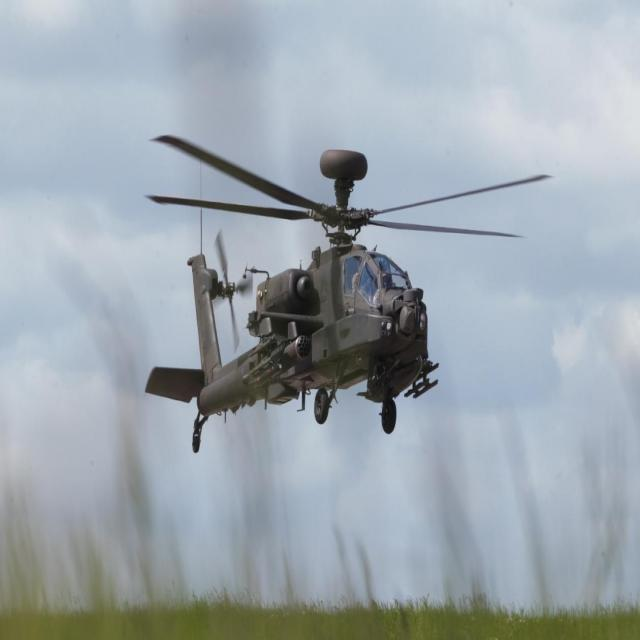MIL_HELO: (109, 108, 562, 460)
